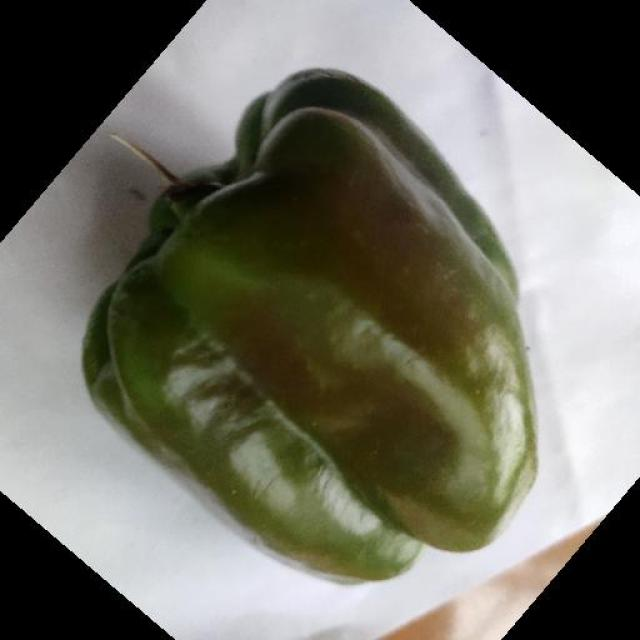Stale_Capsicum: (85, 80, 554, 558)
